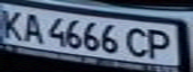4: (42, 15, 66, 47)
6: (100, 21, 124, 55), (81, 20, 103, 53), (63, 17, 84, 50)
A: (18, 10, 45, 44)
C: (124, 25, 154, 60)
K: (0, 7, 27, 40)
P: (142, 27, 178, 60)
